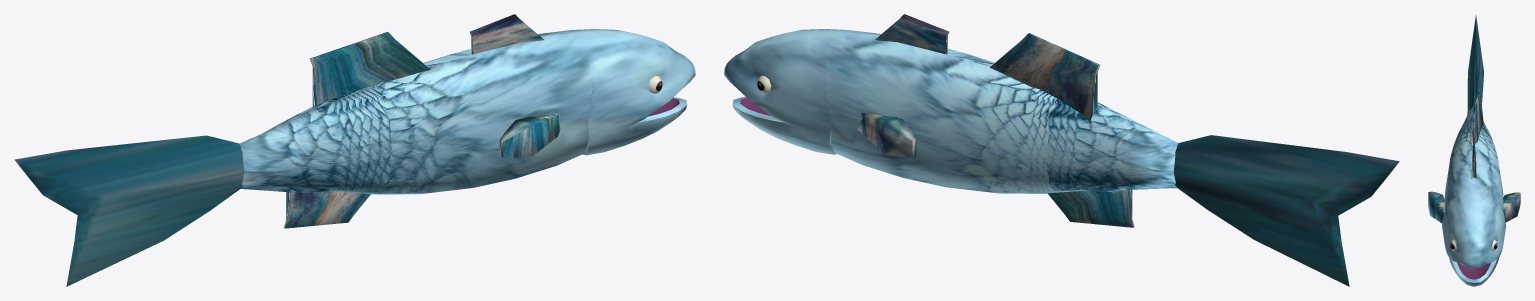
Rendered from Textured_Fish_Jan03.obj.
The picture shows the model from 3 angles, left to right: view 1: azimuth 30°, elevation 25°; view 2: azimuth 150°, elevation 25°; view 3: azimuth 270°, elevation 25°; orthographic projection. The views are drawn at different scales.
Visible parts, largest first — view 1: FishObj_01_Test:Body group, group FishObj_01_Test:topfin, group FishObj_01_Test:bottomFin, group FishObj_01_Test:pasted__pasted__rightFin, group FishObj_01_Test:mini_topFin; view 2: FishObj_01_Test:Body group, group FishObj_01_Test:topfin, group FishObj_01_Test:bottomFin, group FishObj_01_Test:pasted__rightFin, group FishObj_01_Test:mini_topFin; view 3: FishObj_01_Test:Body group, group FishObj_01_Test:topfin, group FishObj_01_Test:pasted__rightFin, group FishObj_01_Test:pasted__pasted__rightFin, group FishObj_01_Test:mini_topFin.
Part boxes in pixels (<box>): FishObj_01_Test:Body group: <box>14,29,695,286</box>; group FishObj_01_Test:topfin: <box>310,32,430,106</box>; group FishObj_01_Test:bottomFin: <box>283,190,370,228</box>; group FishObj_01_Test:pasted__pasted__rightFin: <box>499,114,560,157</box>; group FishObj_01_Test:mini_topFin: <box>470,14,543,54</box>; FishObj_01_Test:Body group: <box>724,29,1399,286</box>; group FishObj_01_Test:topfin: <box>990,33,1100,121</box>; group FishObj_01_Test:bottomFin: <box>1048,189,1134,227</box>; group FishObj_01_Test:pasted__rightFin: <box>858,113,916,156</box>; group FishObj_01_Test:mini_topFin: <box>875,14,948,54</box>; FishObj_01_Test:Body group: <box>1442,15,1505,286</box>; group FishObj_01_Test:topfin: <box>1469,89,1483,143</box>; group FishObj_01_Test:pasted__rightFin: <box>1503,192,1520,222</box>; group FishObj_01_Test:pasted__pasted__rightFin: <box>1428,191,1444,223</box>; group FishObj_01_Test:mini_topFin: <box>1471,141,1476,178</box>.
Size of the model in its own units: 17.8 by 4.5 by 3.36.
